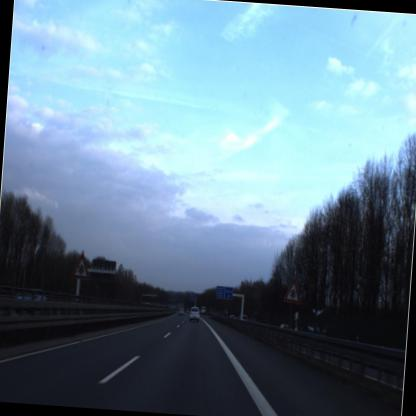danger: (281, 274, 304, 310)
